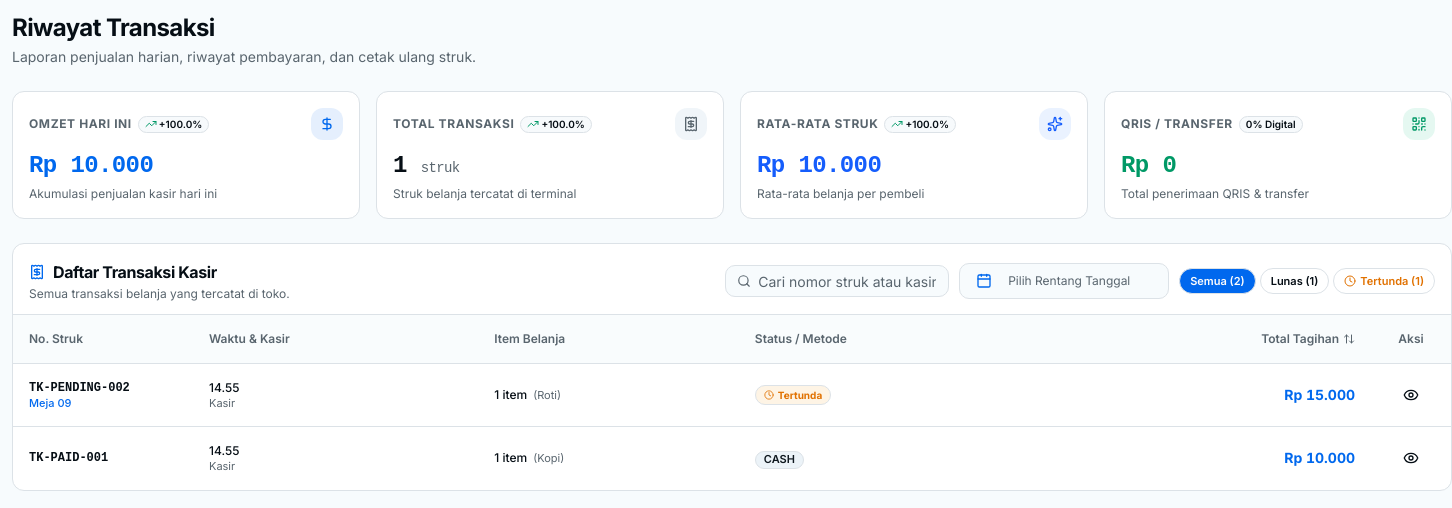
it: OrdersPage › filters pending vs paid orders correctly
Expected: the text "TK-PAID-001" is shown, [29,452,108,466]
Expected: the text "TK-PENDING-002" is shown, [29,380,130,394]
Click the text "Tertunda (1)" at (1384,281), box [1333,268,1435,294]
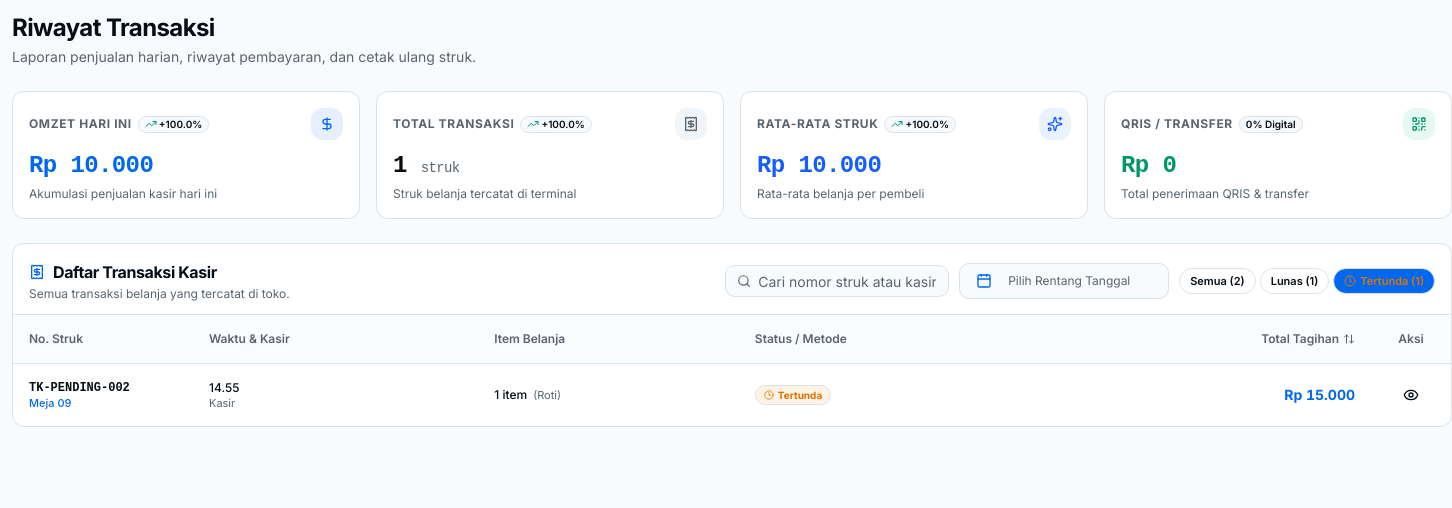
Expected: the text "TK-PENDING-002" is shown, [29,380,130,394]
Expected: the text "TK-PAID-001" is gone
